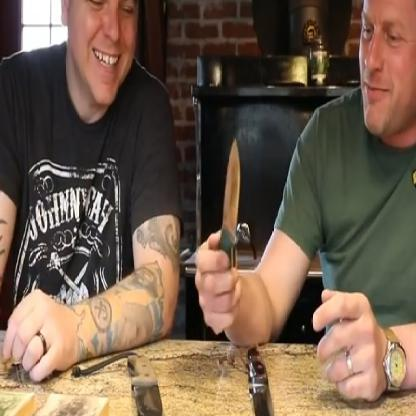knife: (195, 122, 249, 304)
